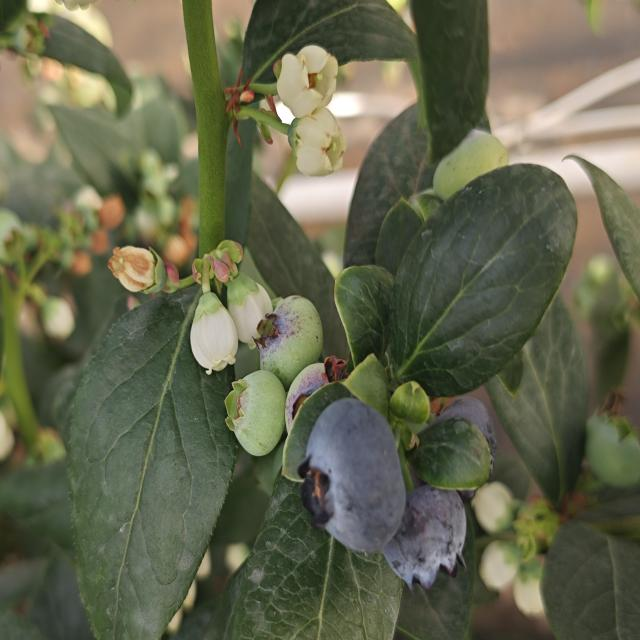ripe: (306, 392, 405, 570), (392, 482, 476, 583), (442, 389, 501, 467)
